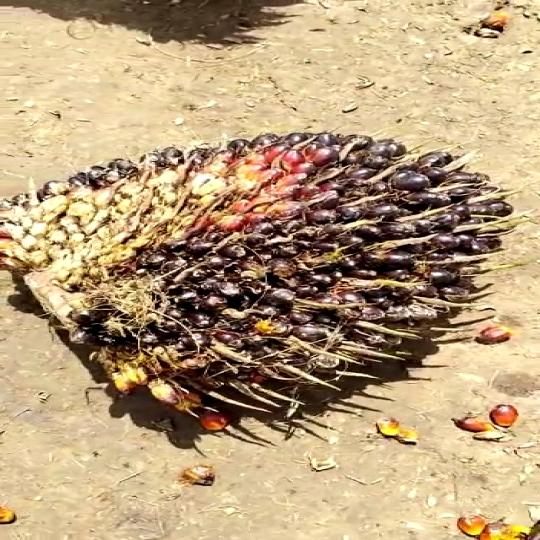mentah: (0, 115, 516, 438)
